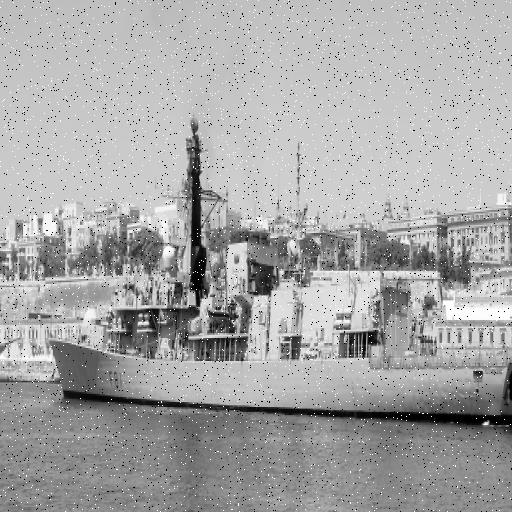Fragata: (50, 104, 512, 413)
